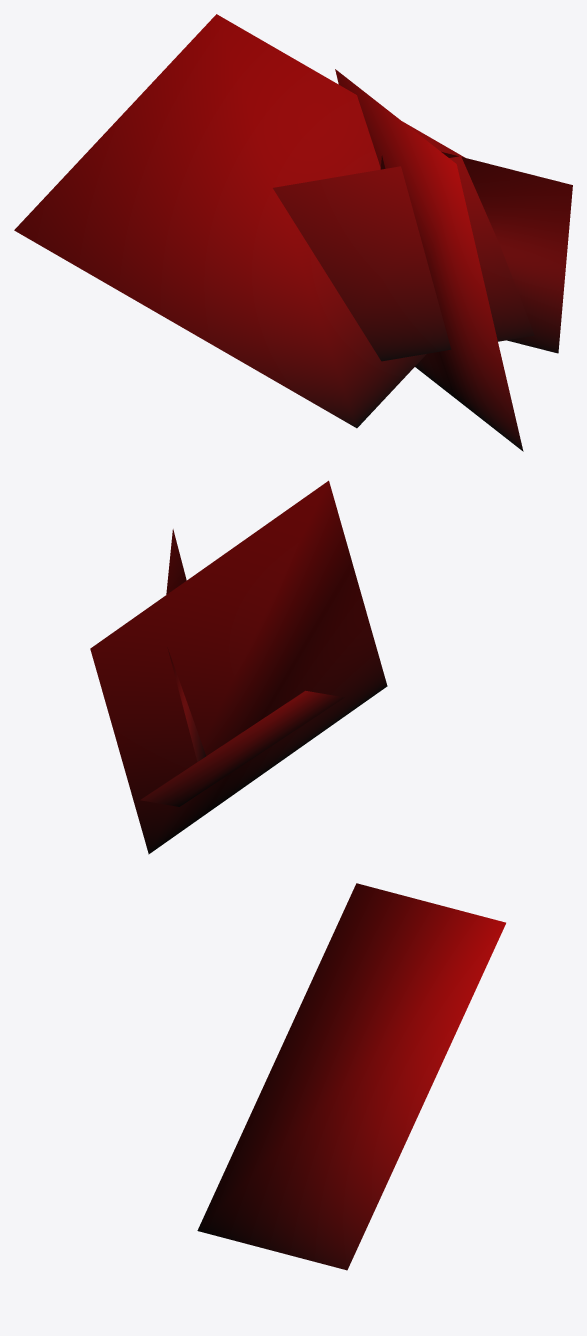
The picture shows the model from 3 angles, top to bottom: view 1: azimuth 30°, elevation 25°; view 2: azimuth 150°, elevation 25°; view 3: azimuth 270°, elevation 25°; orthographic projection. The views are drawn at different scales.
Parts seen in each view (by area): view 1: bladderWrack.002; view 2: bladderWrack.002; view 3: bladderWrack.002.
Boxes of the visible parts, x1,y1,x2,y2 form: bladderWrack.002: (14, 14, 572, 451); bladderWrack.002: (90, 480, 387, 854); bladderWrack.002: (197, 883, 505, 1270).
Bounding box in the file's own units: 2.06 × 1.19 × 1.78.
